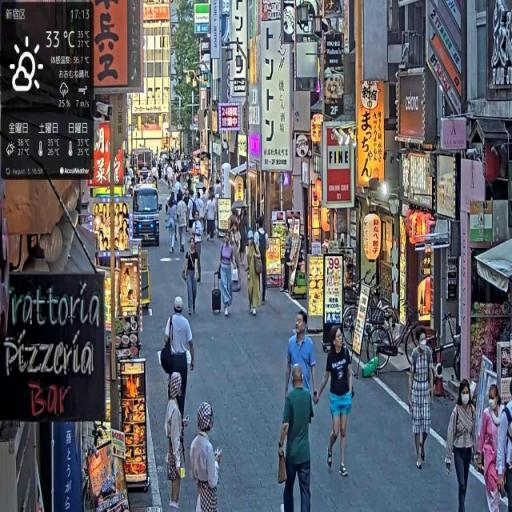person: (315, 327, 357, 480), (279, 364, 316, 512), (160, 295, 196, 429), (446, 377, 479, 512), (407, 324, 437, 471), (190, 401, 224, 512), (478, 384, 505, 512), (165, 381, 188, 512), (497, 378, 512, 512), (219, 231, 237, 318), (245, 235, 263, 317), (255, 216, 270, 308), (184, 241, 201, 315), (230, 216, 244, 293), (191, 209, 205, 280), (176, 191, 189, 258), (206, 194, 216, 243)
